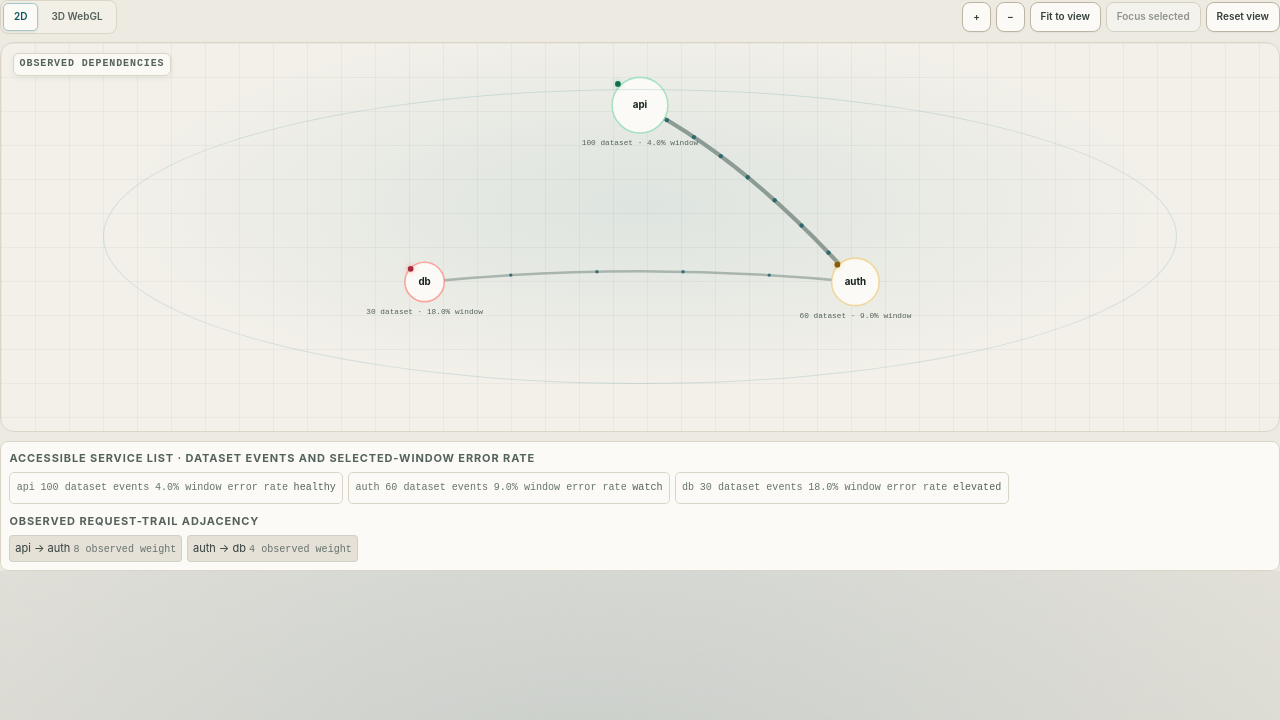
Test case: TopologyPanel WebGL lifecycle › does not rebuild the scene when a caller passes an equivalent array
The image size is (1280, 720).
What coordinates should you click on to do the following:
click the button "3D WebGL"
I would click on:
 (77, 17)
Its box is x1=40 y1=3 x2=114 y2=31.
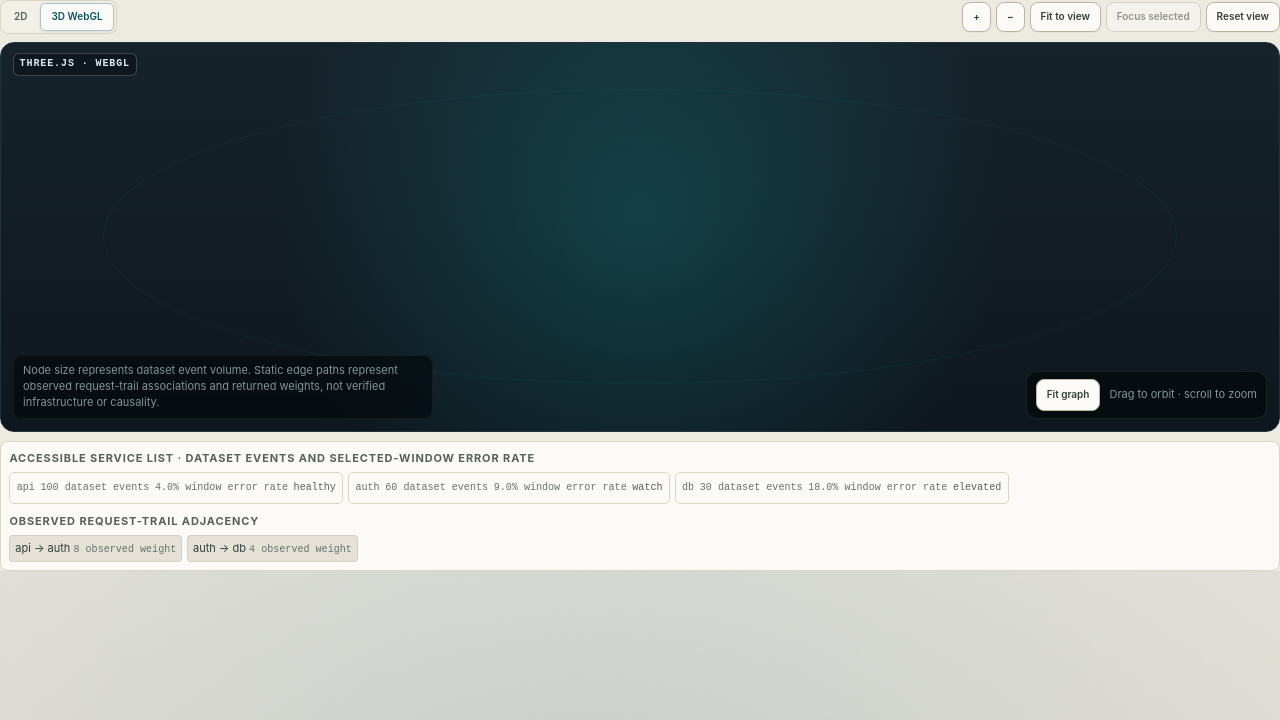
Check: the text "THREE.JS · WEBGL" is shown, box x1=13 y1=53 x2=137 y2=76
